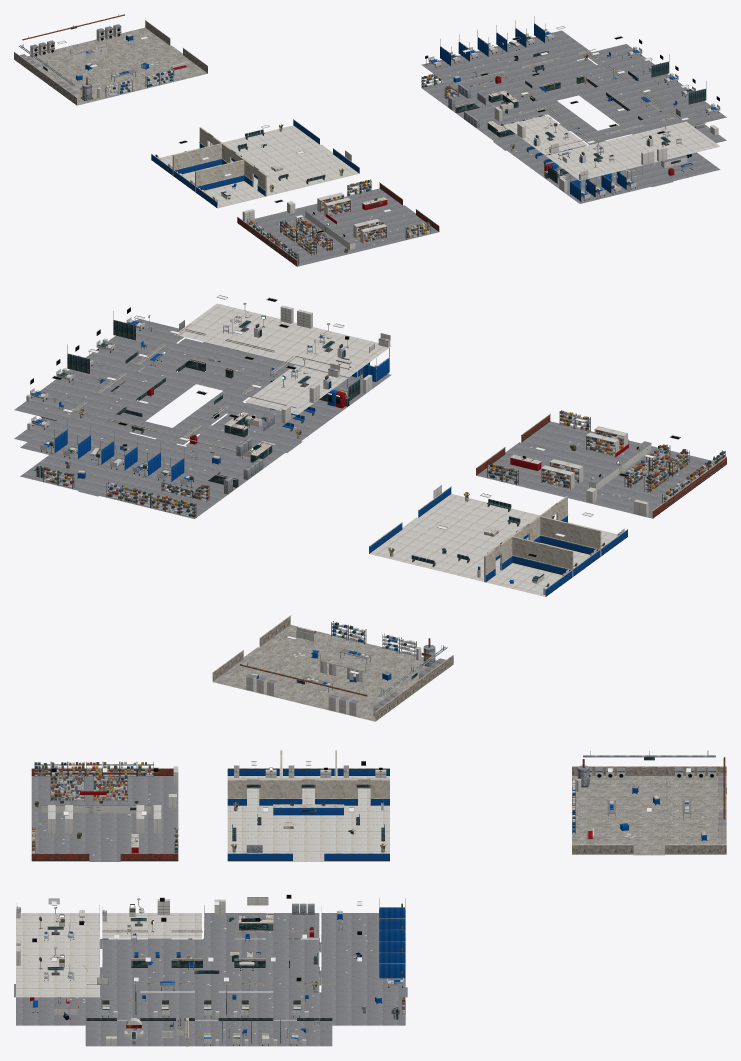
Rendered from Hospital Interiors.fbx.
3 views of the same model, one above another, from view 1: azimuth 30°, elevation 25°; view 2: azimuth 150°, elevation 25°; view 3: azimuth 270°, elevation 25° (orthographic). The views are drawn at different scales.
Parts seen in each view (by area): view 1: Clinic, Pharmacy, Laundry, H1_Surgery, H1_Recovery, H1_Corridors, H1_Patients, H0_ER, H0_Reception, H1_Nurses, H0_Corridors, H0_Supplies (+1 smaller); view 2: Clinic, Laundry, Pharmacy, H1_Surgery, H1_Corridors, H1_Recovery, H1_Patients, H0_Supplies, H0_Reception, H1_Nurses, H0_Corridors, H0_ER (+1 smaller); view 3: Clinic, Pharmacy, Laundry, H1_Surgery, H1_Corridors, H1_Recovery, H0_East, H1_Patients, H1_Nurses, H0_Corridors, H0_Supplies, H0_ER (+1 smaller).
Boxes of the visible parts, box(x1,y1,x2,y2) form: Clinic: box(151, 119, 359, 208); Pharmacy: box(237, 179, 439, 266); Laundry: box(14, 14, 207, 105); H1_Surgery: box(504, 108, 719, 180); H1_Recovery: box(421, 16, 595, 89); H1_Corridors: box(500, 50, 675, 144); H1_Patients: box(584, 36, 726, 125); H0_ER: box(545, 152, 720, 203); H0_Reception: box(456, 101, 570, 178); H1_Nurses: box(456, 72, 545, 124); H0_Corridors: box(493, 76, 673, 186); H0_Supplies: box(421, 64, 583, 112); Clinic: box(369, 485, 627, 596); Laundry: box(212, 615, 453, 721); Pharmacy: box(476, 410, 726, 518); H1_Surgery: box(175, 295, 391, 414); H1_Corridors: box(75, 330, 294, 444); H1_Recovery: box(20, 408, 237, 490); H1_Patients: box(14, 307, 191, 422); H0_Supplies: box(20, 455, 237, 518); H0_Reception: box(212, 389, 348, 486); H1_Nurses: box(185, 384, 296, 458); H0_Corridors: box(78, 360, 302, 496); H0_ER: box(190, 342, 391, 405); Clinic: box(227, 750, 389, 861); Pharmacy: box(31, 761, 178, 861); Laundry: box(572, 751, 726, 855); H1_Surgery: box(16, 897, 201, 997); H1_Corridors: box(100, 917, 321, 992); H1_Recovery: box(321, 898, 405, 997); H0_East: box(85, 1018, 332, 1046); H1_Patients: box(85, 977, 332, 1017); H1_Nurses: box(204, 894, 319, 938); H0_Corridors: box(14, 959, 407, 1024); H0_Supplies: box(332, 997, 405, 1025); H0_ER: box(16, 997, 99, 1025).
Size of the model in its own units: 8181 by 771 by 9104.
